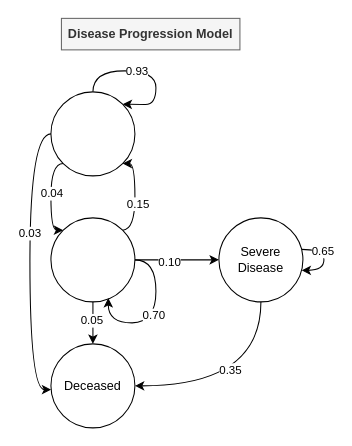
Some shapes in this 352 by 446 pixel diagram are drawn without their labels. The shapes that lost their labels are listed below. From the top down, each one's centre as x and y in pixels, then its label:
At (92,133): "Healthy".
At (92,259): "Mild Disease".
